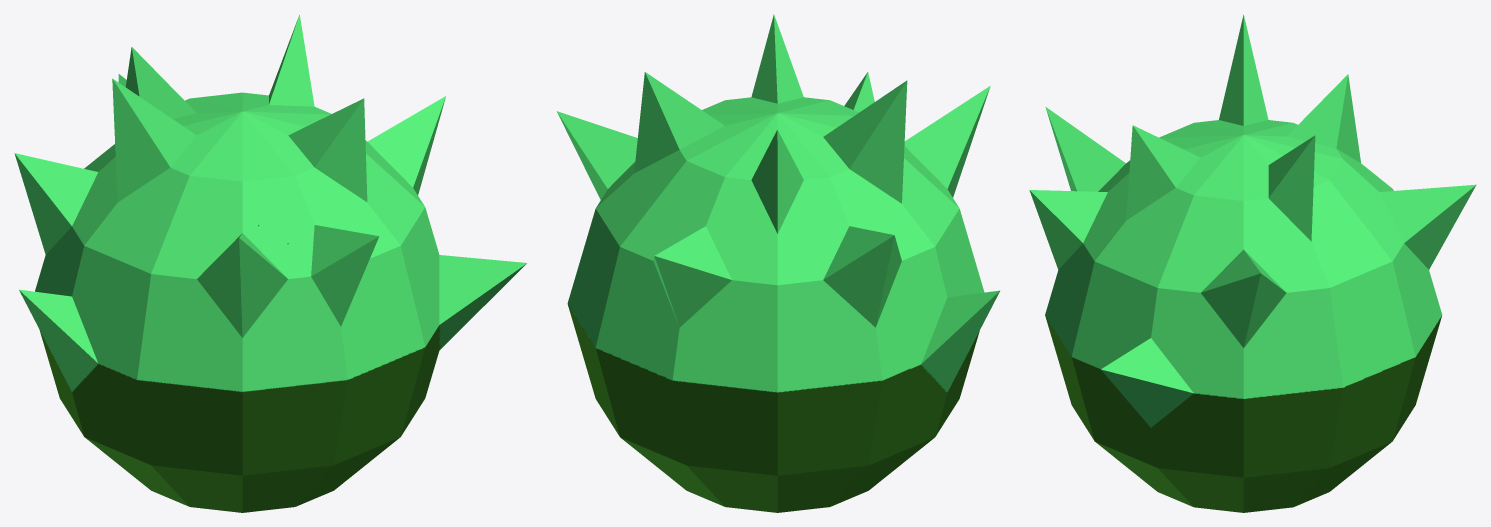
Rendered from green.fbx.
3 views of the same model, side by side, from view 1: azimuth 30°, elevation 25°; view 2: azimuth 150°, elevation 25°; view 3: azimuth 270°, elevation 25° (orthographic). The views are drawn at different scales.
Visible parts, largest first — view 1: Сфера.002; view 2: Сфера.002; view 3: Сфера.002.
Part boxes in pixels (box(x1,y1,x2,y2)): Сфера.002: box(14, 14, 526, 512); Сфера.002: box(556, 14, 999, 512); Сфера.002: box(1029, 14, 1476, 512).
Bounding box in the file's own units: 239 × 234 × 225.
1 material, 1 textured.
